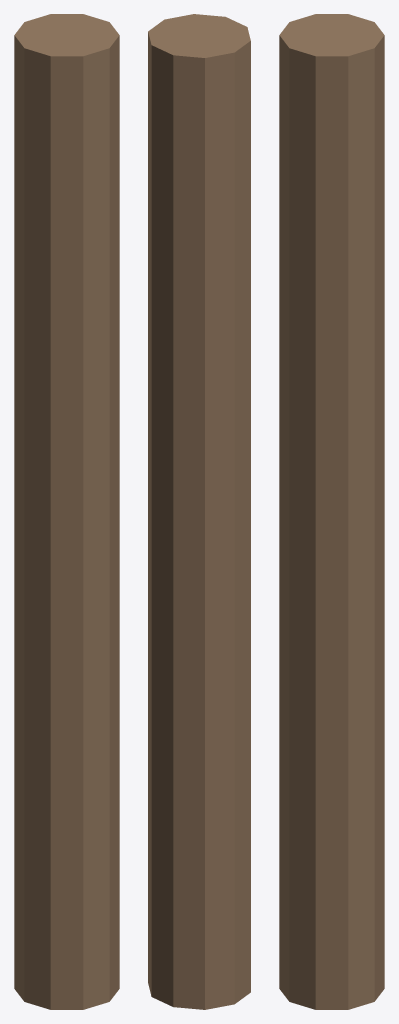
Rendered from piling.glb.
3 views of the same model, side by side, from view 1: azimuth 90°, elevation 25°; view 2: azimuth 150°, elevation 25°; view 3: azimuth 270°, elevation 25° (orthographic).
Parts seen in each view (by area): view 1: Piling; view 2: Piling; view 3: Piling.
Boxes of the visible parts, box(x1,y1,x2,y2) form: Piling: box(14, 14, 119, 1009); Piling: box(148, 14, 250, 1009); Piling: box(279, 14, 384, 1009).
Size of the model in its own units: 0.3804 by 4 by 0.4.
